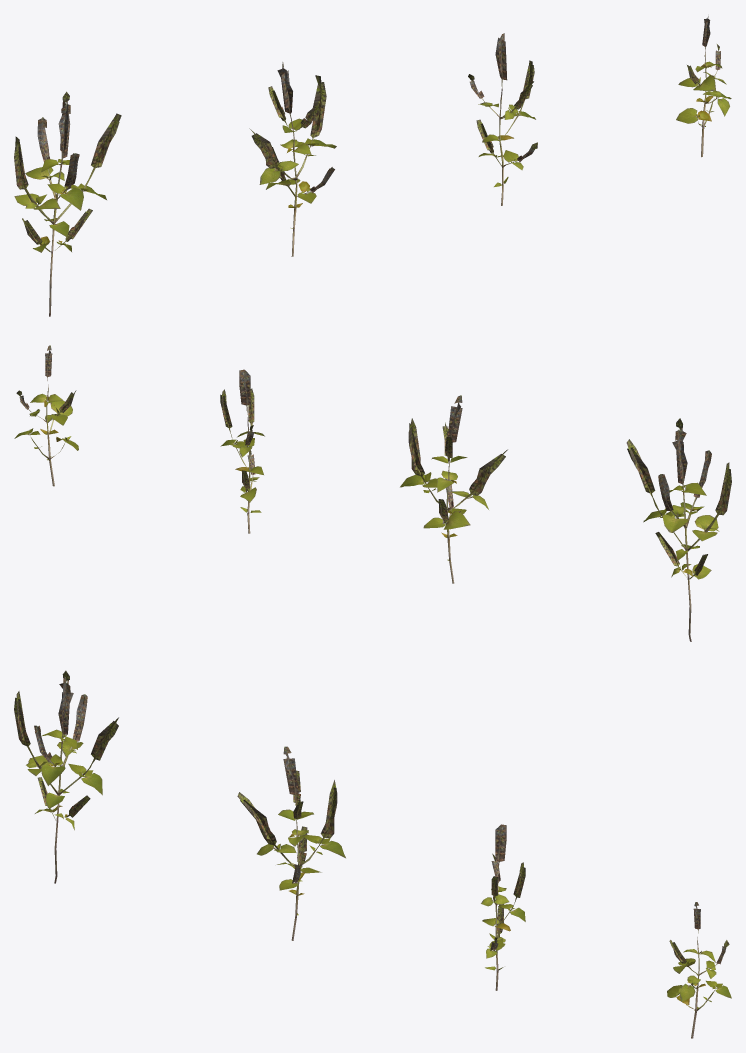
Rendered from shrub_03.glb.
3 renders of one model, top to bottom at view 1: azimuth 30°, elevation 25°; view 2: azimuth 150°, elevation 25°; view 3: azimuth 330°, elevation 25°, orthographic. The views are drawn at different scales.
Parts seen in each view (by area): view 1: shrub_03_a, shrub_03_b, shrub_03_c, shrub_03_d; view 2: shrub_03_a, shrub_03_b, shrub_03_c, shrub_03_d; view 3: shrub_03_a, shrub_03_b, shrub_03_c, shrub_03_d.
Part boxes in pixels (bbox=[...]): shrub_03_a: bbox=[14, 91, 121, 316]; shrub_03_b: bbox=[249, 62, 336, 256]; shrub_03_c: bbox=[468, 33, 537, 205]; shrub_03_d: bbox=[676, 16, 731, 157]; shrub_03_a: bbox=[626, 418, 731, 641]; shrub_03_b: bbox=[400, 395, 507, 583]; shrub_03_c: bbox=[220, 369, 264, 533]; shrub_03_d: bbox=[14, 345, 78, 486]; shrub_03_a: bbox=[14, 670, 118, 883]; shrub_03_b: bbox=[237, 746, 345, 940]; shrub_03_c: bbox=[481, 824, 525, 990]; shrub_03_d: bbox=[667, 902, 731, 1038].
Bounding box in the file's own units: 1.37 × 0.4028 × 0.151.
Materials: 1 (1 with a texture image).
